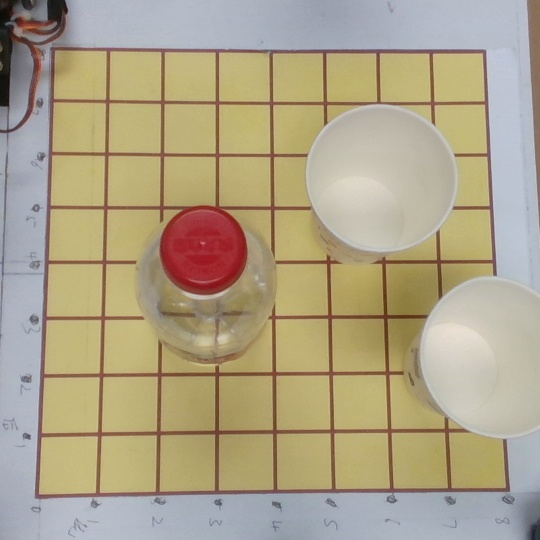bottle: (123, 205, 275, 368)
cup: (288, 105, 455, 278), (386, 276, 540, 456)
